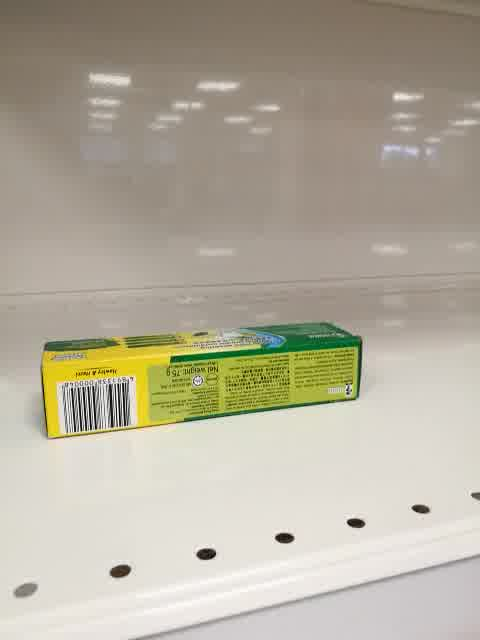toothpaste: (38, 321, 366, 439)
